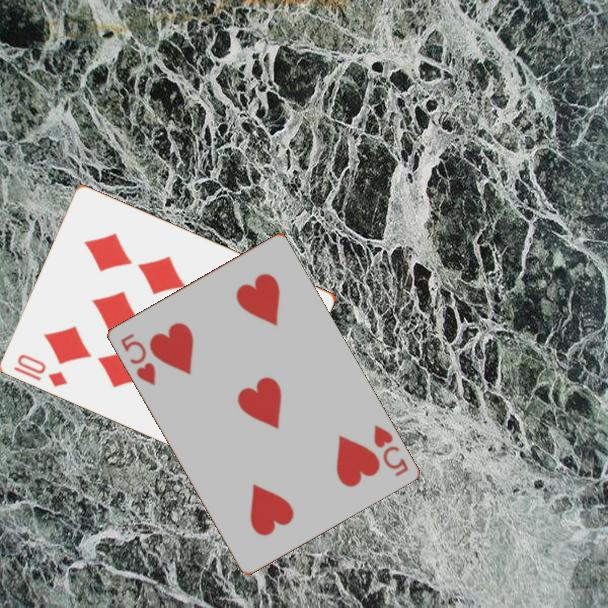d10: (10, 350, 71, 390)
h05: (370, 421, 411, 480), (117, 330, 158, 388)
